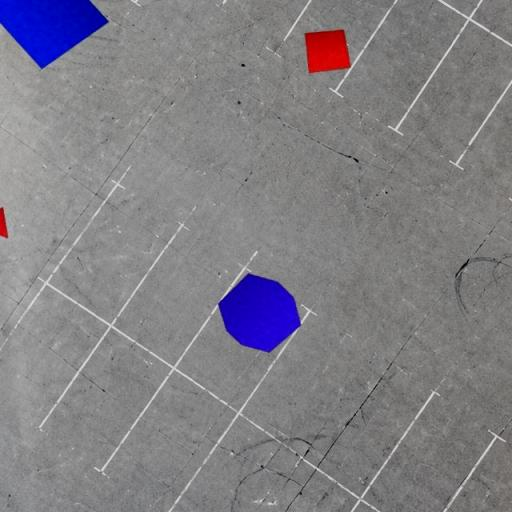BLUE_SQUARE: (0, 0, 109, 70)
RED_SQUARE: (304, 28, 352, 74)
